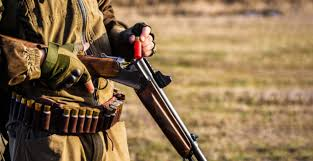Gun: (76, 44, 205, 159)
